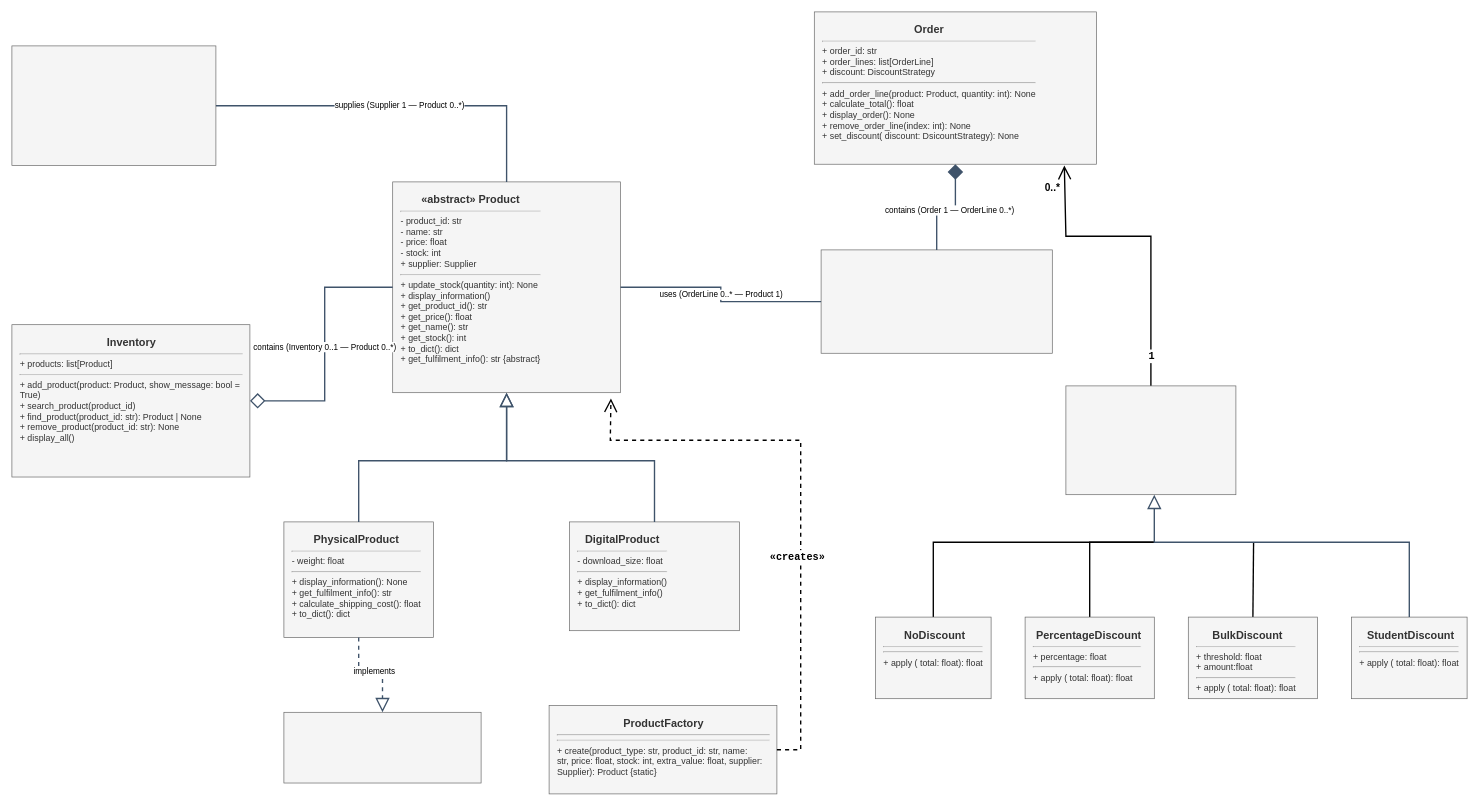
The diagram is 1479 pixels wide and 806 high, and some of its shapes have lost their labels. The shapes that lost their labels are listed below. From the top down, each one's box as (x1, y1, x2, y2) in pixels, then its label:
(11, 45, 216, 166): Supplier + supplier_id + name + contact_email + display_information(): None
(820, 249, 1052, 353): OrderLine + product: Product + quantity + calculate_subtotal(): float
(1065, 385, 1236, 495): «abstract» DiscountStrategy + apply ( total: float): float {abstract}
(283, 712, 481, 783): «abstract» CanBeShipped + calculate_shipping_cost(): float {abstract}
